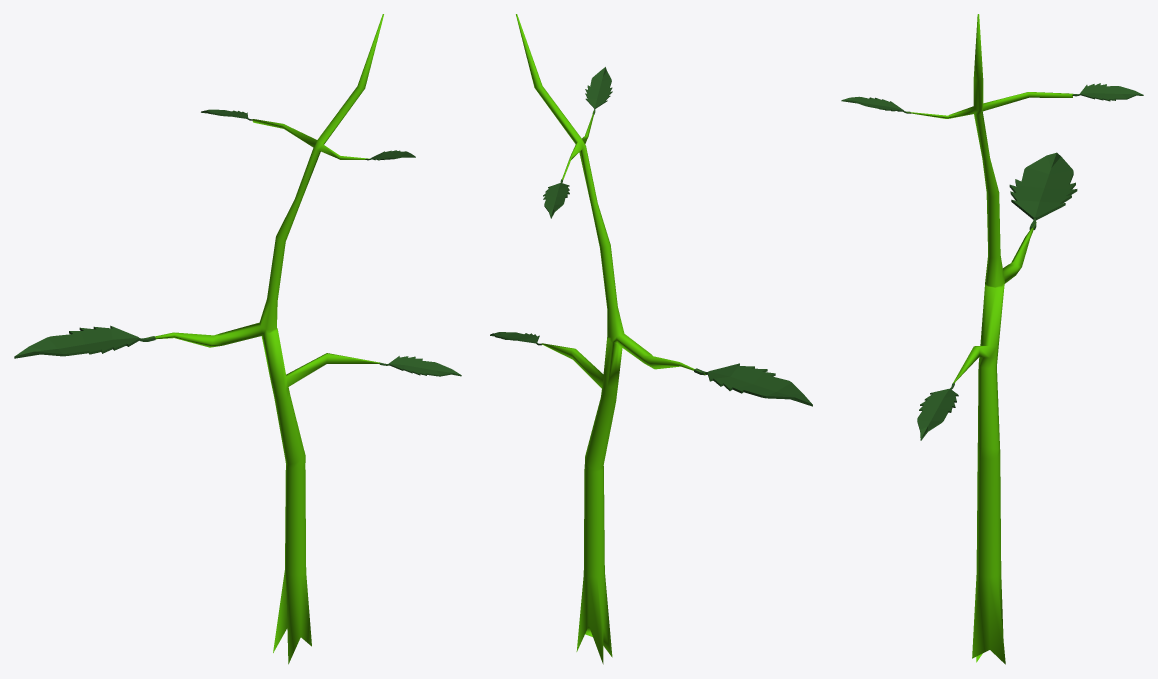
File: VegetativeStage2.fbx
The picture shows the model from 3 angles, left to right: view 1: azimuth 30°, elevation 25°; view 2: azimuth 150°, elevation 25°; view 3: azimuth 270°, elevation 25°; orthographic projection. The views are drawn at different scales.
Visible parts, largest first — view 1: Cylinder, Plane.012, Plane.015; view 2: Cylinder, Plane.012, Plane.016, Plane.013; view 3: Cylinder, Plane.012, Plane.015, Plane.013, Plane.016.
Boxes of the visible parts, left/top/right/bottom form: Cylinder: left=147, top=14, right=383, bottom=664; Plane.012: left=14, top=325, right=155, bottom=358; Plane.015: left=389, top=356, right=461, bottom=376; Cylinder: left=516, top=14, right=705, bottom=664; Plane.012: left=694, top=363, right=812, bottom=406; Plane.016: left=585, top=67, right=612, bottom=114; Plane.013: left=543, top=179, right=569, bottom=218; Cylinder: left=906, top=14, right=1073, bottom=664; Plane.012: left=1009, top=152, right=1077, bottom=229; Plane.015: left=917, top=389, right=958, bottom=440; Plane.013: left=1072, top=83, right=1143, bottom=101; Plane.016: left=841, top=96, right=911, bottom=113.
Size of the model in its own units: 192 by 297 by 116.
